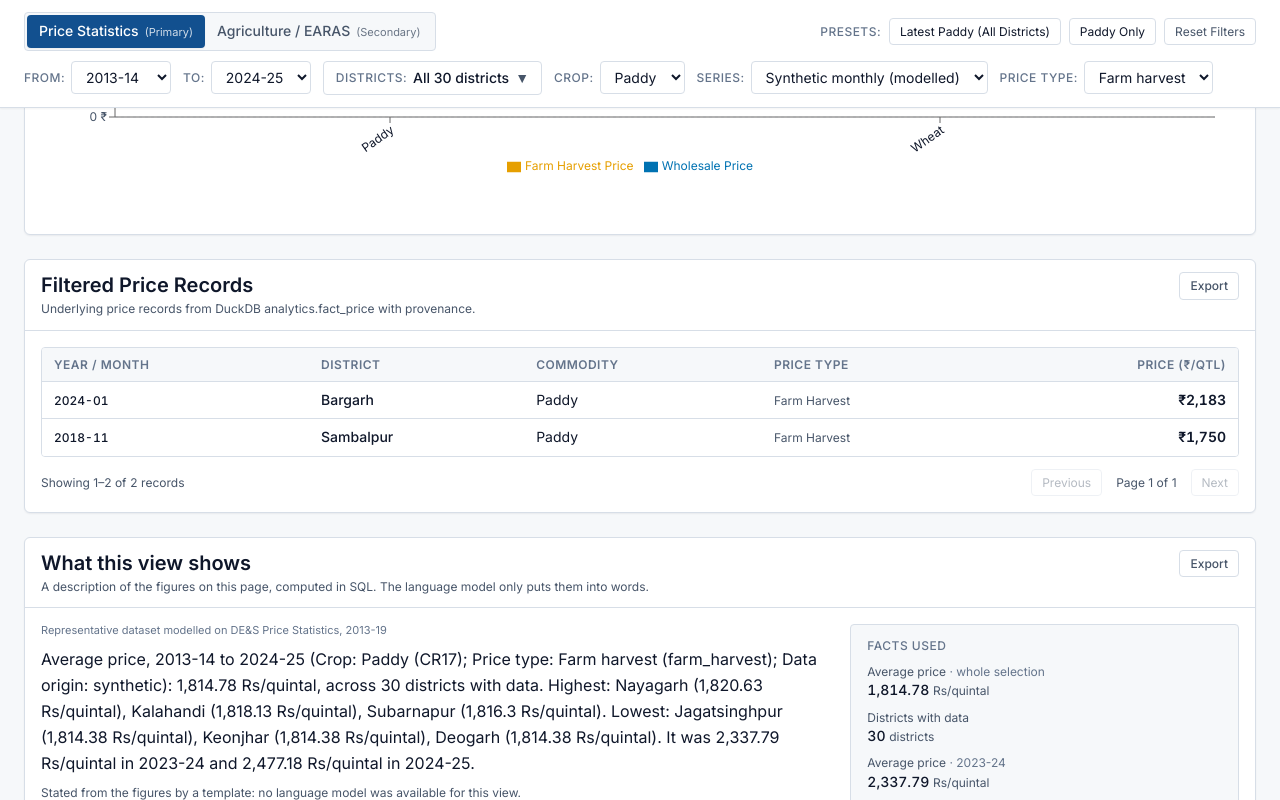
Test: Dashboard — Interactive Analytics (RFP Area 3) › opens drill-down drawer showing fact records with dataset versions when requested
The image size is (1280, 800).
(page scrolled)
// Find a record row in the Price Statistics grid table
Click the text "Bargarh". click: (348, 400)
box: [309,382,524,419]
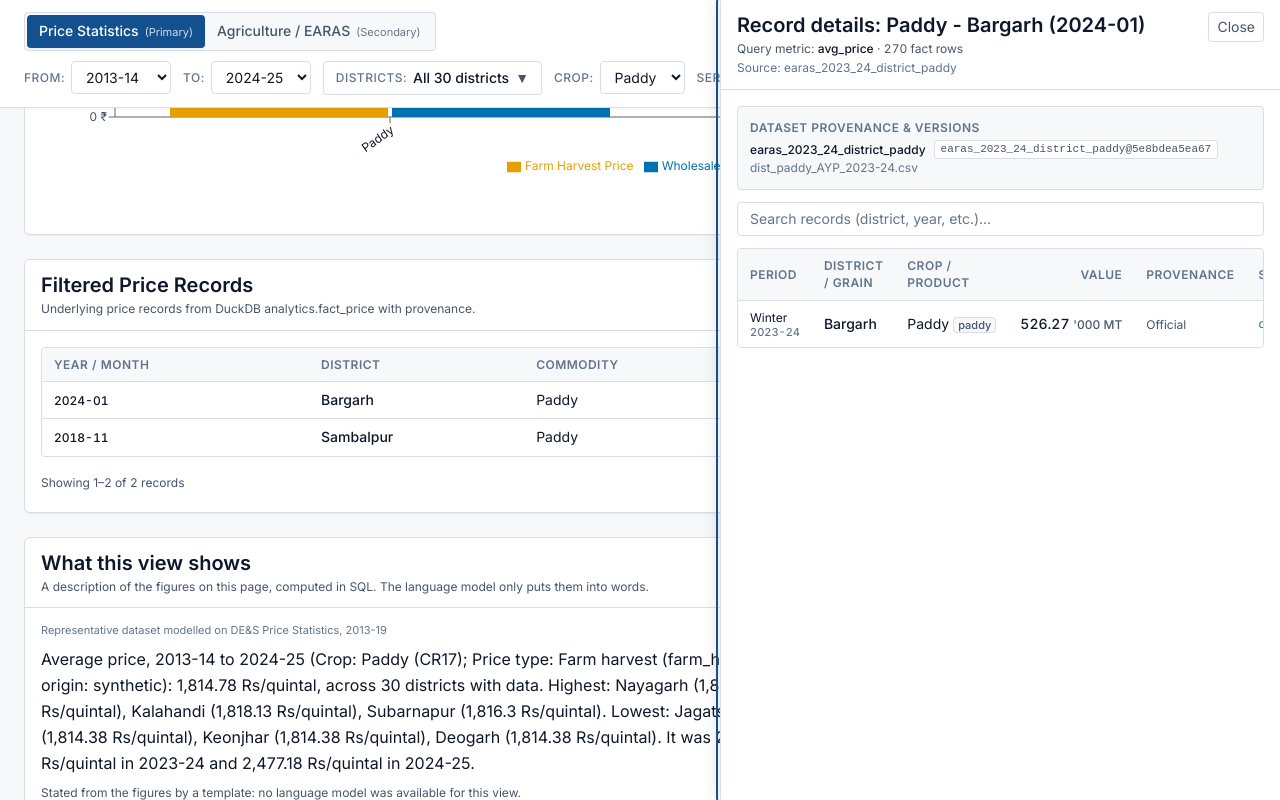
Expected: the heading "Record details: Paddy - Bargarh (2024-01)" is shown, [737,12,1146,38]
Expected: the text "dist_paddy_AYP_2023-24.csv" is shown, [750,160,918,175]
Expected: the text "earas_2023_24_district_paddy@5e8bdea5ea67" is shown, [934,140,1218,159]
